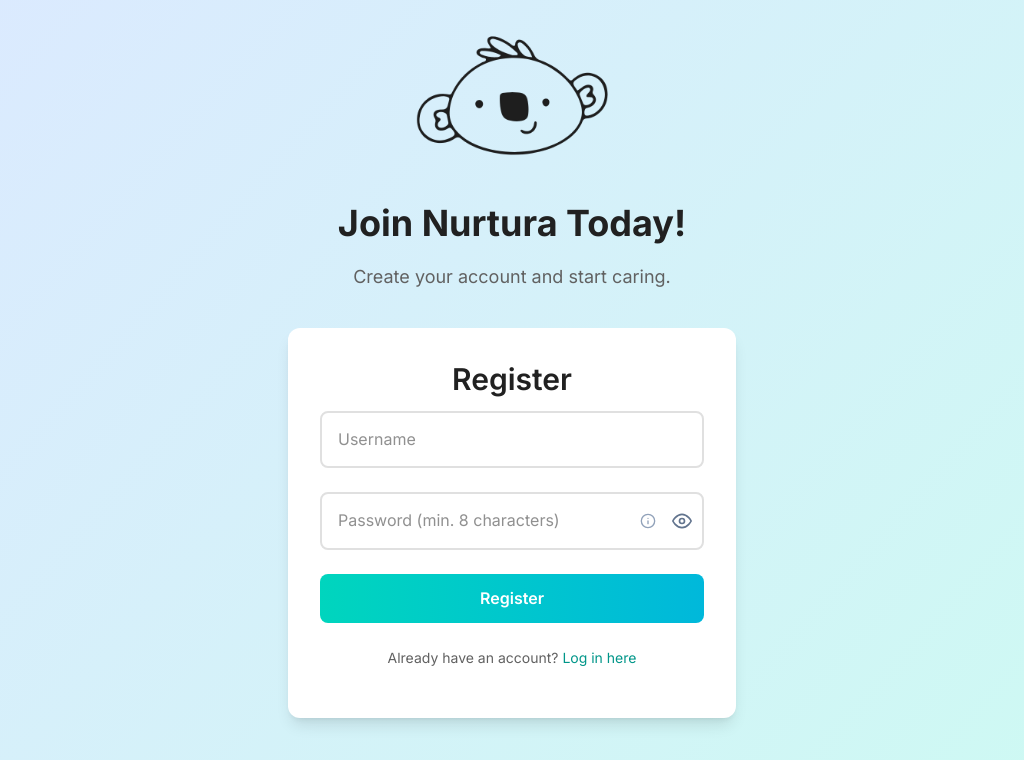
Registration Page › shows error for existing username
Type "Cypress" into the field with placeholder "Username".
click(512, 440); type("Cypress")  # box [320,411,704,469]
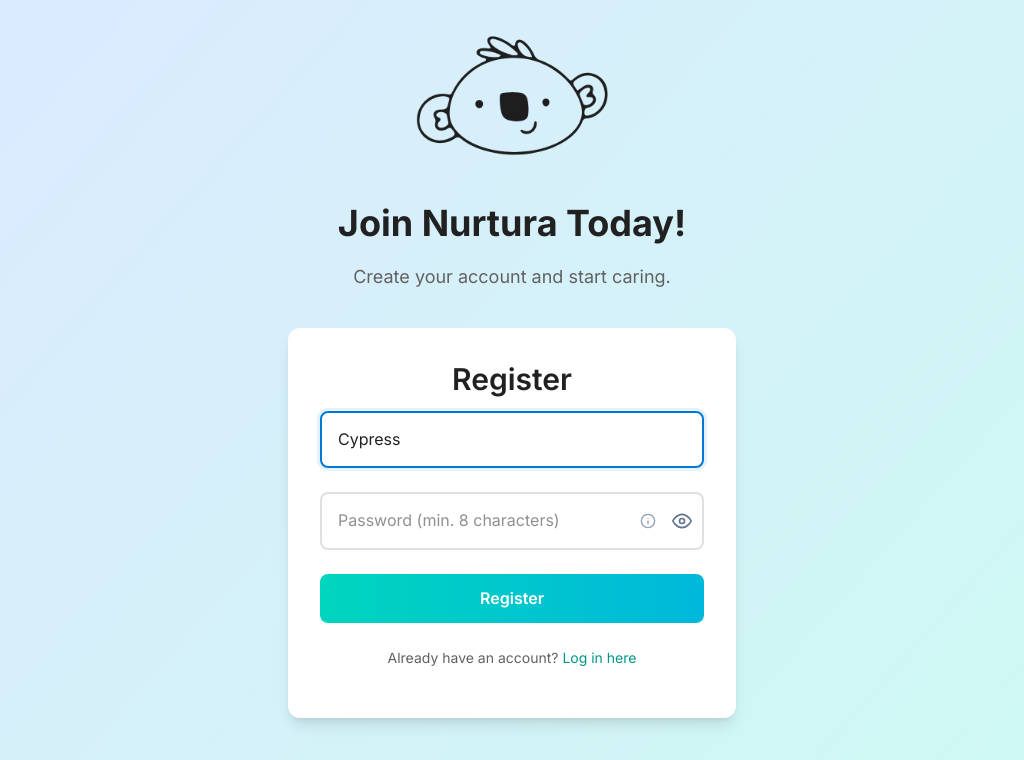
Type "Testing1234!" into the password field with placeholder "Password (min. 8 characters)".
click(512, 521); type("Testing1234!")  # box [320,492,704,550]
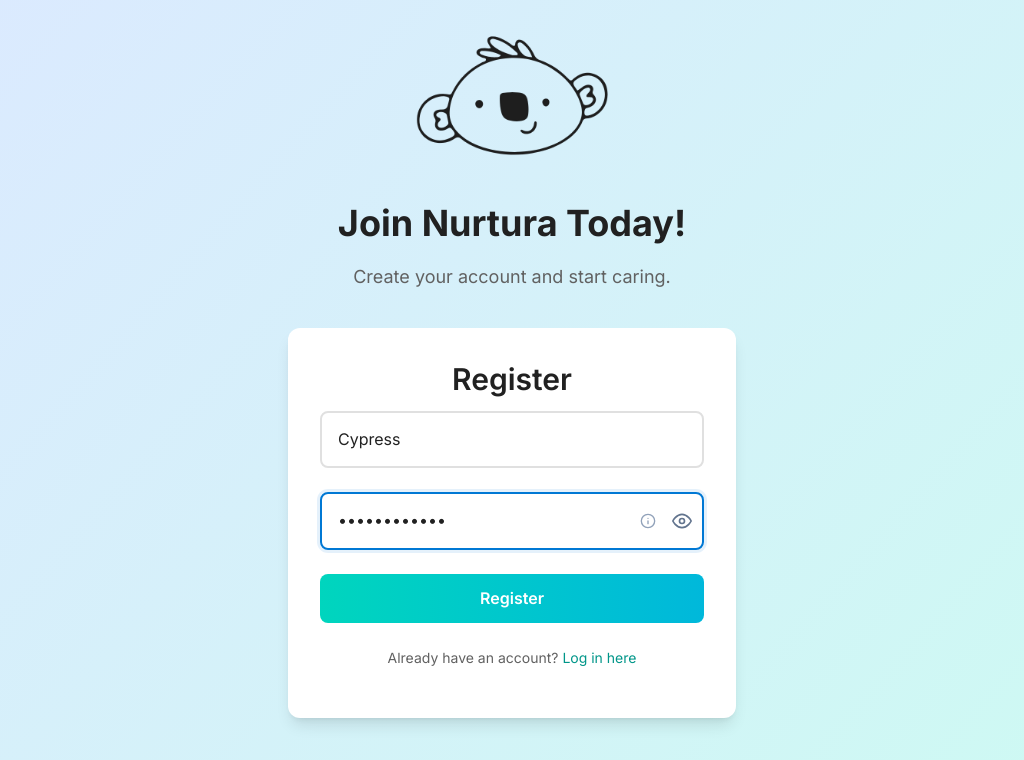
Note: Click submit
Click the submit button.
click(512, 599)  # box [320,574,704,624]
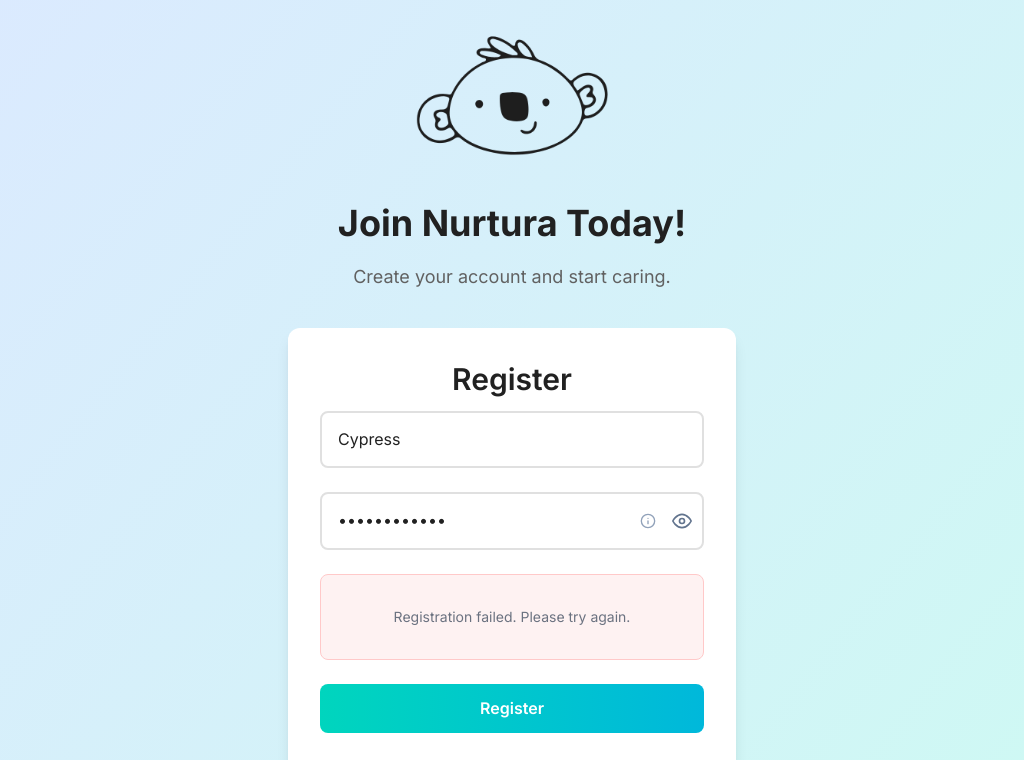
Expected: the text with class "error-message" shows "Registration failed", [394,608,631,625]
